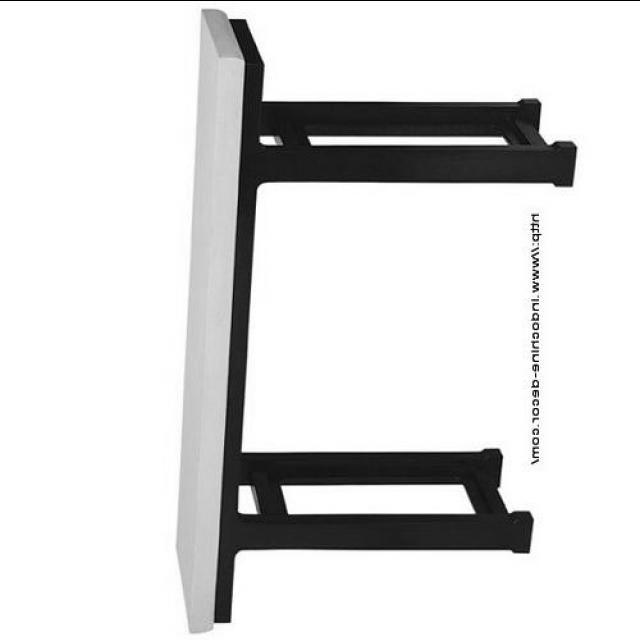table: (173, 9, 578, 632)
